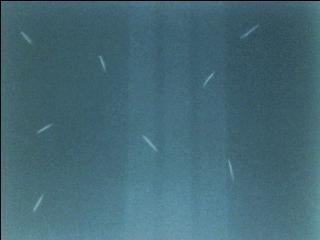scratch: (139, 132, 159, 153), (238, 21, 260, 40), (17, 28, 37, 47), (31, 191, 45, 213), (35, 121, 55, 136), (96, 53, 109, 76), (226, 158, 236, 182), (202, 70, 215, 88)
